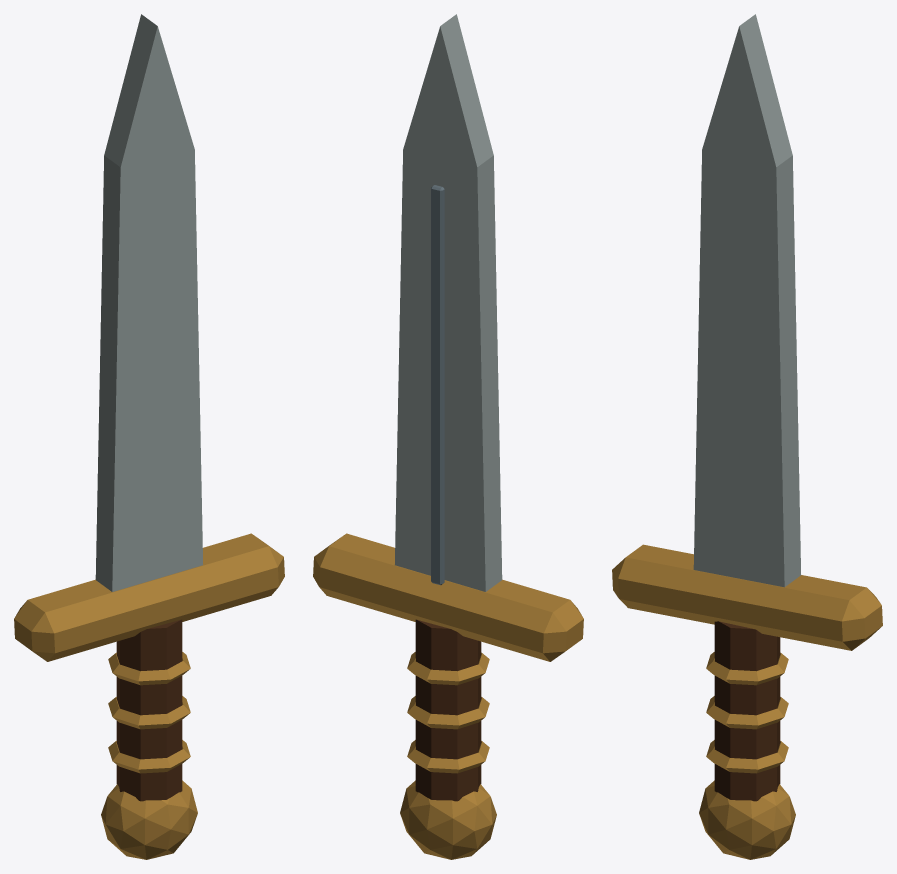
File: Sword.glb
3 renders of one model, left to right at view 1: azimuth 30°, elevation 25°; view 2: azimuth 150°, elevation 25°; view 3: azimuth 330°, elevation 25°, orthographic.
Parts seen in each view (by area): view 1: Sculpture; view 2: Sculpture; view 3: Sculpture.
Part boxes in pixels (left/top/right/bottom): Sculpture: left=14, top=14, right=284, bottom=859; Sculpture: left=313, top=14, right=583, bottom=859; Sculpture: left=612, top=14, right=882, bottom=859.
Bounding box in the file's own units: 0.3008 × 0.949 × 0.088.
